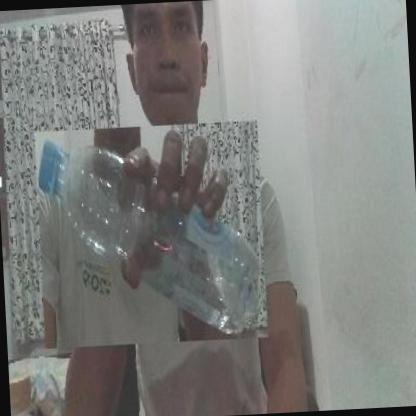plastic_bottles: (38, 130, 263, 338)
